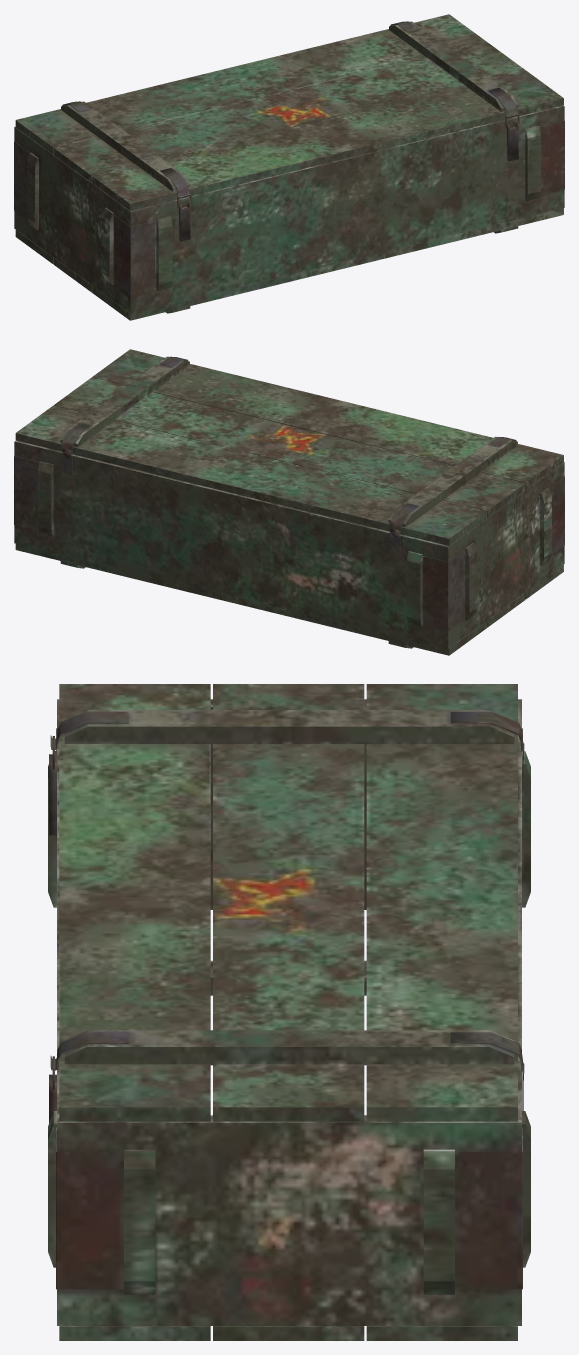
File: p_table.glb
3 renders of one model, top to bottom at view 1: azimuth 30°, elevation 25°; view 2: azimuth 150°, elevation 25°; view 3: azimuth 270°, elevation 25°, orthographic. The views are drawn at different scales.
Visible parts, largest first — view 1: yashik; view 2: yashik; view 3: yashik.
Boxes of the visible parts, x1,y1,x2,y2 form: yashik: [14, 14, 564, 320]; yashik: [14, 349, 564, 655]; yashik: [48, 684, 530, 1340].
Bounding box in the file's own units: 2 × 0.5826 × 0.9456.
1 material, 1 textured.
